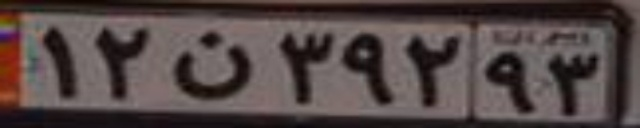1: (41, 26, 77, 97)
2: (400, 35, 459, 109), (90, 27, 142, 100)
3: (275, 31, 330, 104), (546, 51, 600, 117)
9: (340, 32, 394, 106), (479, 51, 534, 113)
non: (169, 29, 251, 98)
